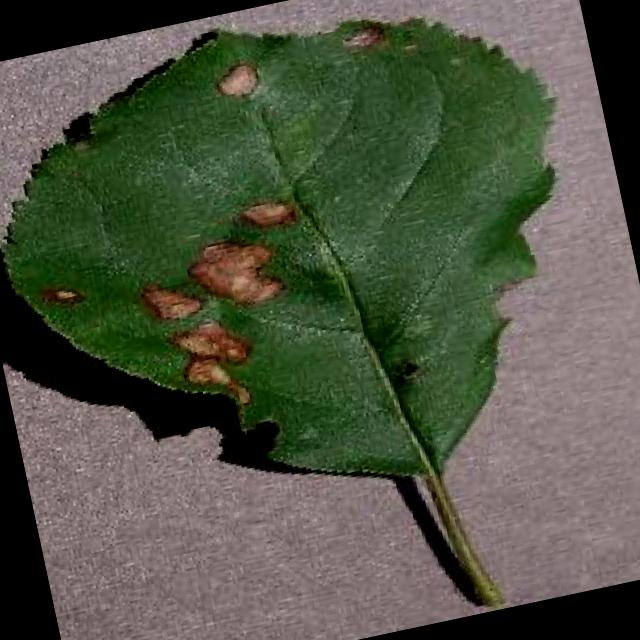leaf_spot: (5, 18, 553, 599)
